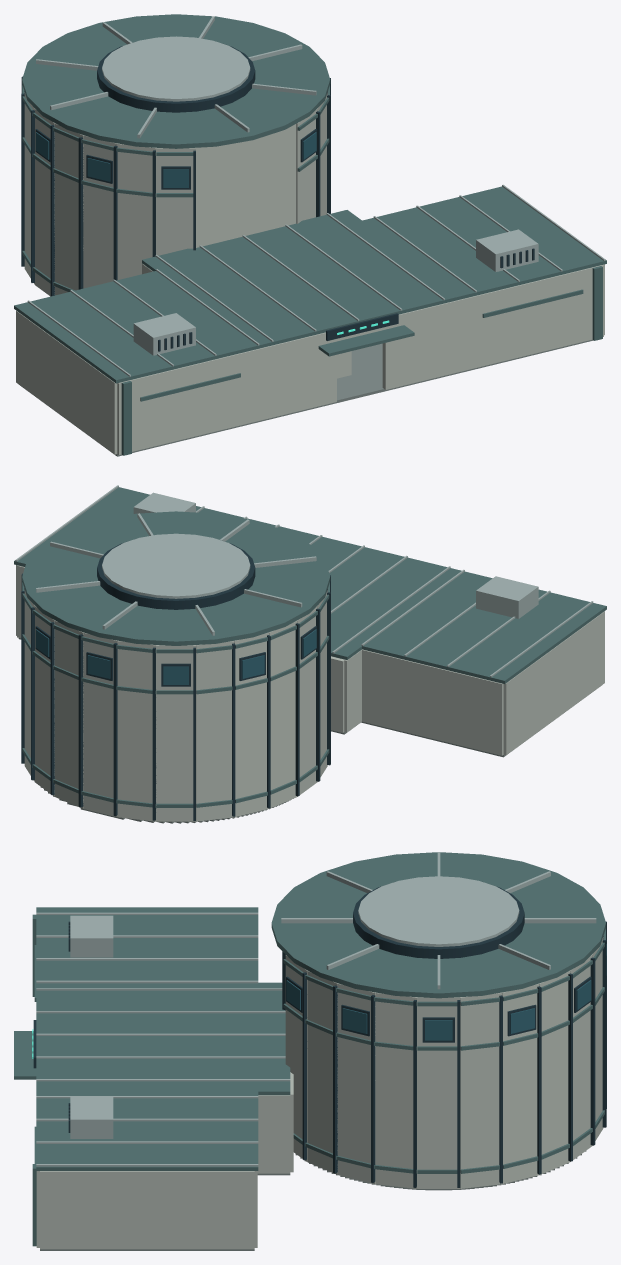
Rendered from FSA_ENV_Research_01_RadialLabs.glb.
3 views of the same model, one above another, from view 1: azimuth 30°, elevation 25°; view 2: azimuth 150°, elevation 25°; view 3: azimuth 270°, elevation 25° (orthographic). The views are drawn at different scales.
Parts seen in each view (by area): view 1: LobbyRoof, CoreRoofDisk, Front68, Front69, WestRoof, EastRoof, CoreRoofTop, WestOuter77, CorePortal65, CoreWall21, CoreWall20, CoreWall19 (+20 smaller); view 2: CoreRoofDisk, WestRoof, WestBack78, LobbyRoof, CoreRoofTop, WestOuter77, CoreWall15, CoreWall13, CoreWall14, CoreWall16, CoreWall12, CoreWall17 (+25 smaller); view 3: CoreRoofDisk, LobbyRoof, EastOuter79, EastRoof, WestRoof, CoreRoofTop, CoreWall7, CoreWall5, CoreWall6, CoreWall8, CoreWall4, CoreWall9 (+34 smaller).
Part boxes in pixels (box(x1,y1,x2,y2)): LobbyRoof: box(142, 210, 464, 348); CoreRoofDisk: box(22, 14, 330, 148); Front68: box(117, 332, 336, 454); Front69: box(382, 264, 603, 389); WestRoof: box(14, 271, 260, 383); EastRoof: box(360, 186, 606, 298); CoreRoofTop: box(102, 36, 250, 101); WestOuter77: box(16, 310, 117, 454); CorePortal65: box(221, 135, 270, 241); CoreWall21: box(118, 143, 156, 279); CoreWall20: box(83, 135, 117, 288); CoreWall19: box(55, 123, 83, 295); CoreRoofDisk: box(22, 511, 330, 645); WestRoof: box(362, 571, 606, 683); WestBack78: box(362, 649, 503, 755); LobbyRoof: box(258, 521, 461, 659); CoreRoofTop: box(102, 533, 250, 598); WestOuter77: box(503, 611, 604, 755); CoreWall15: box(196, 641, 234, 821); CoreWall13: box(118, 640, 156, 821); CoreWall14: box(156, 645, 195, 821); CoreWall16: box(234, 632, 268, 816); CoreWall12: box(83, 632, 117, 817); CoreWall17: box(269, 620, 297, 808); CoreRoofDisk: box(271, 852, 605, 998); LobbyRoof: box(36, 982, 290, 1095); EastOuter79: box(40, 1171, 254, 1249); EastRoof: box(36, 1090, 258, 1170); WestRoof: box(36, 907, 258, 983); CoreRoofTop: box(358, 876, 519, 946); CoreWall7: box(460, 992, 502, 1188); CoreWall5: box(375, 992, 417, 1188); CoreWall6: box(417, 997, 460, 1188); CoreWall8: box(502, 983, 539, 1183); CoreWall4: box(338, 983, 375, 1183); CoreWall9: box(539, 970, 570, 1174).
Size of the model in its own units: 34.4 by 13.08 by 33.15.
